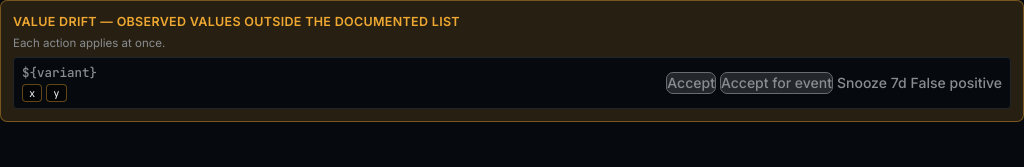
Scenario: EventValueDriftPanel › reports a failed verdict once, inline
Step 1. Click the button "False positive" → [956, 83], box [911,72,1002,94]
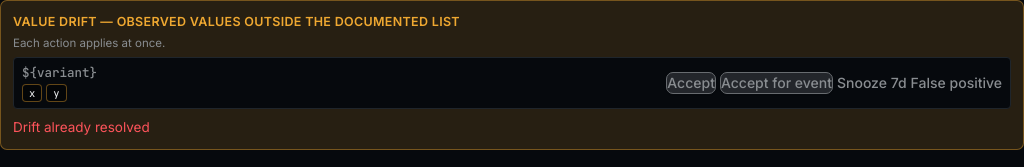
Check: the message reads "Drift already resolved", box [13,119,150,135]
